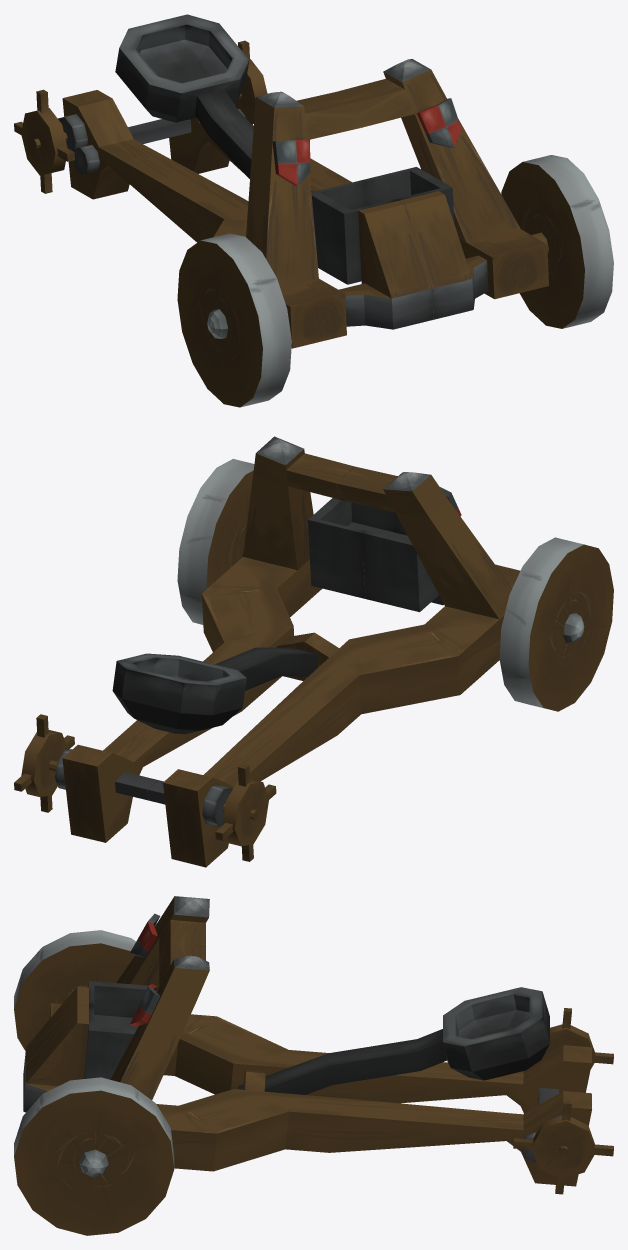
File: catapulta.FBX
3 views of the same model, one above another, from view 1: azimuth 30°, elevation 25°; view 2: azimuth 150°, elevation 25°; view 3: azimuth 270°, elevation 25° (orthographic). The views are drawn at different scales.
Visible parts, largest first — view 1: Box001; view 2: Box001; view 3: Box001.
Boxes of the visible parts, <box> form: Box001: <box>14,14,613,407</box>; Box001: <box>14,436,613,867</box>; Box001: <box>14,896,613,1235</box>.
Size of the model in its own units: 29954 by 18723 by 44614.
2 materials, 2 textured.
